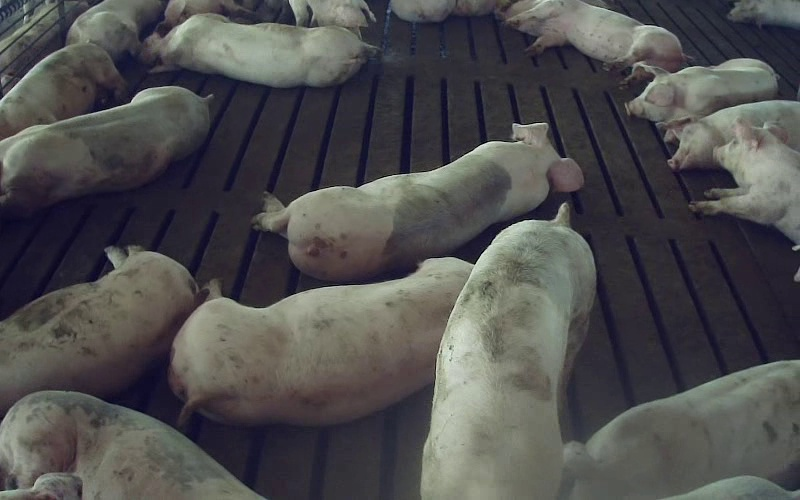pig: (253, 123, 583, 280), (169, 258, 472, 425), (0, 246, 199, 416), (563, 360, 799, 499), (0, 86, 210, 216), (142, 13, 377, 87), (505, 0, 687, 71), (0, 43, 125, 139), (658, 100, 799, 170), (625, 58, 777, 121), (66, 0, 162, 60)
